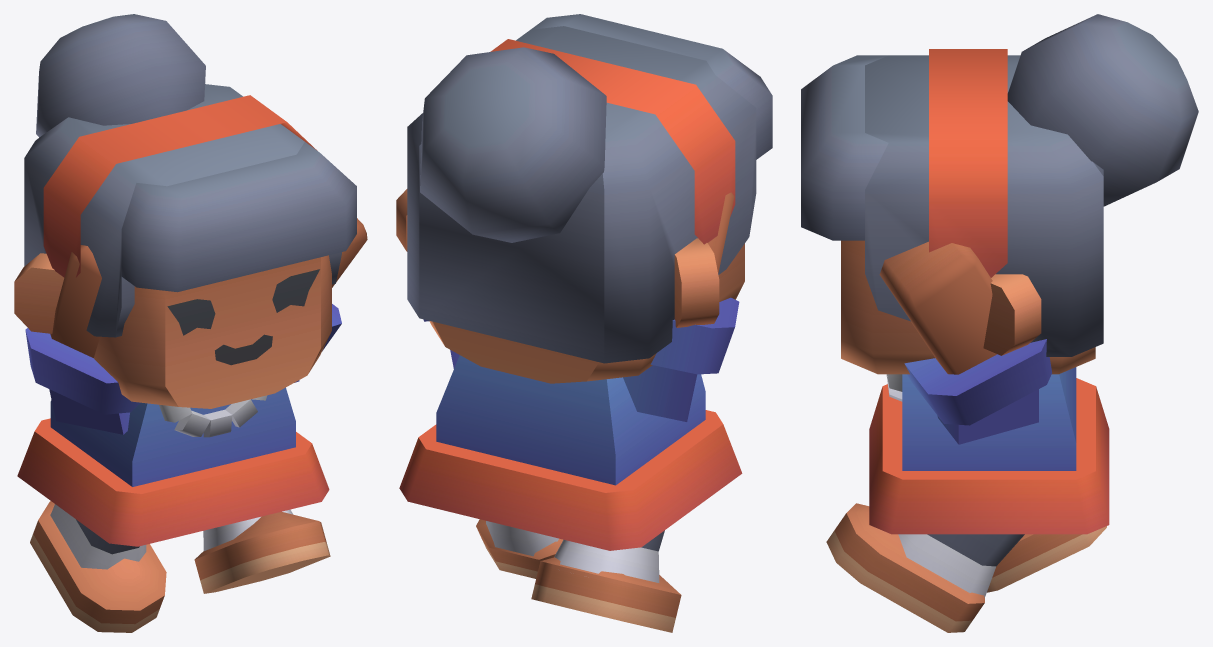
Rendered from walker-female-c-walk-a.glb.
The picture shows the model from 3 angles, left to right: view 1: azimuth 30°, elevation 25°; view 2: azimuth 150°, elevation 25°; view 3: azimuth 270°, elevation 25°; orthographic projection. The views are drawn at different scales.
Parts seen in each view (by area): view 1: character-female-c-walk-a; view 2: character-female-c-walk-a; view 3: character-female-c-walk-a.
Part boxes in pixels (x1,y1,x2,y2): character-female-c-walk-a: [14, 14, 367, 632]; character-female-c-walk-a: [396, 14, 772, 632]; character-female-c-walk-a: [801, 14, 1198, 632].
Size of the model in its own units: 0.4719 by 0.8165 by 0.4995.
Materials: 1 (1 with a texture image).
